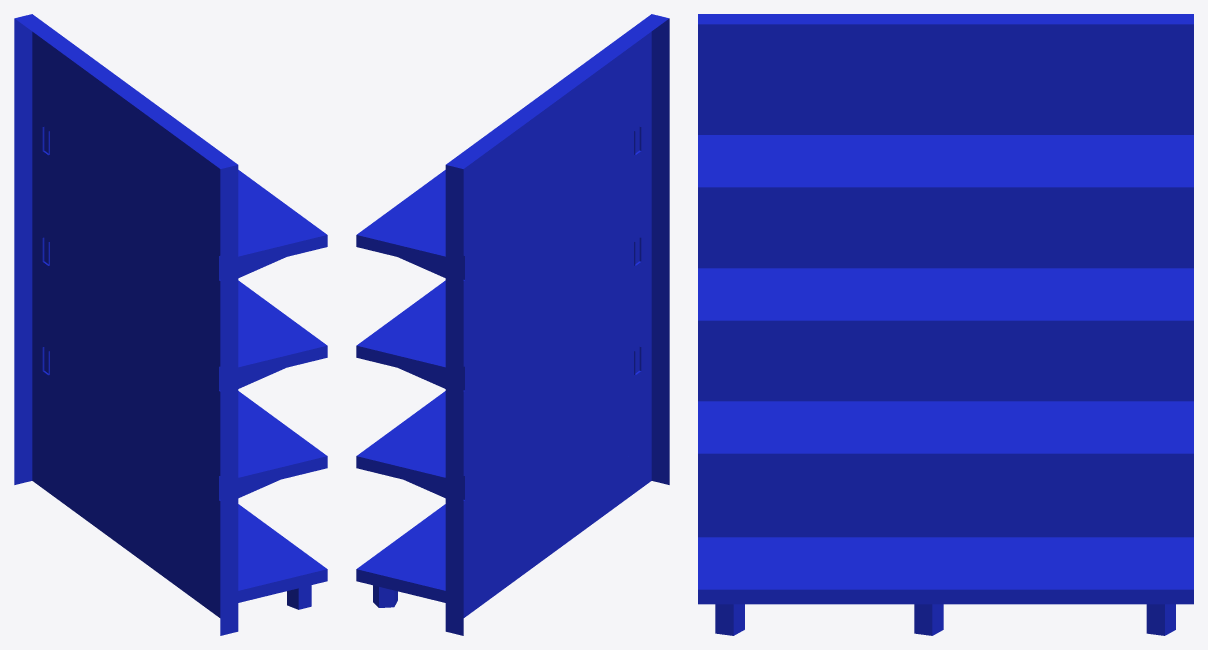
The model's file is SM_Shelf02.fbx.
3 renders of one model, left to right at view 1: azimuth 30°, elevation 25°; view 2: azimuth 150°, elevation 25°; view 3: azimuth 270°, elevation 25°, orthographic. The views are drawn at different scales.
Visible parts, largest first — view 1: SM_Shelf_02; view 2: SM_Shelf_02; view 3: SM_Shelf_02.
Part boxes in pixels (left/top/right/bottom): SM_Shelf_02: left=14, top=14, right=327, bottom=635; SM_Shelf_02: left=356, top=14, right=669, bottom=635; SM_Shelf_02: left=698, top=14, right=1193, bottom=635.
Bounding box in the file's own units: 48 × 200 × 160.
